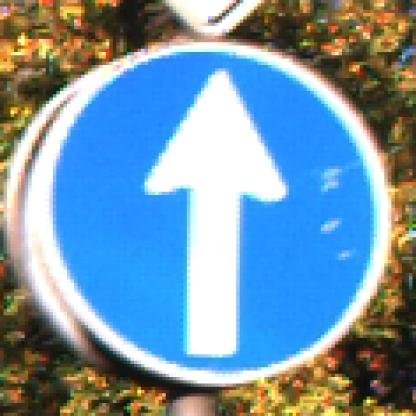AheadOnly: (40, 40, 382, 381)
